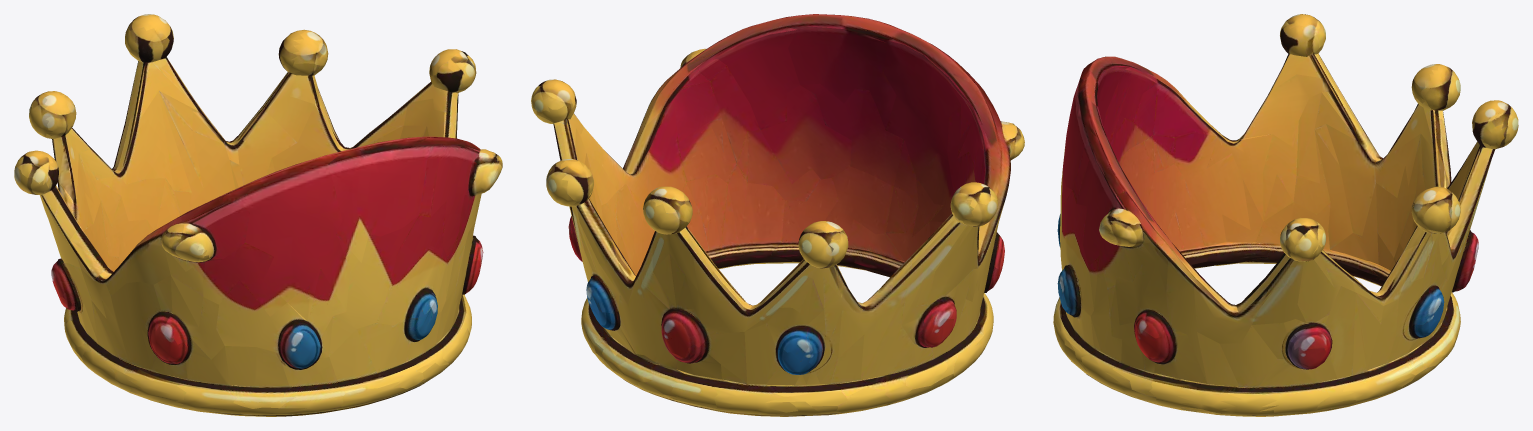
Rendered from hat_crown.glb.
The picture shows the model from 3 angles, left to right: view 1: azimuth 30°, elevation 25°; view 2: azimuth 150°, elevation 25°; view 3: azimuth 270°, elevation 25°; orthographic projection.
Size of the model in its own units: 1.9 by 1 by 1.68.
Materials: 1 (1 with a texture image).
